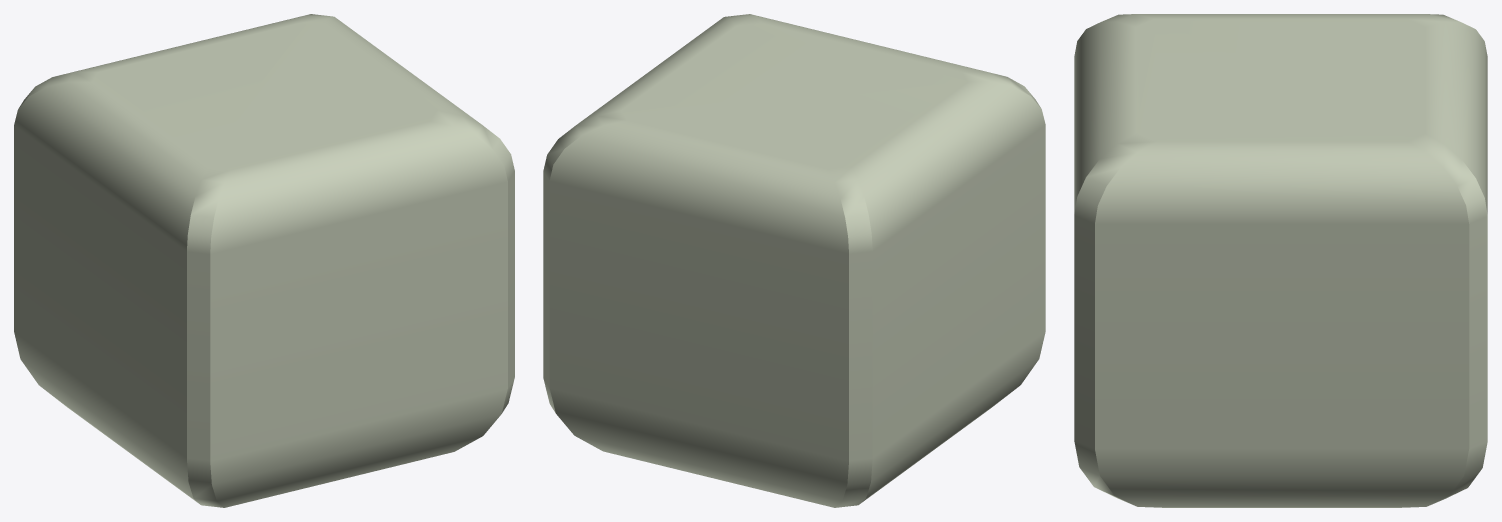
3 views of the same model, side by side, from view 1: azimuth 30°, elevation 25°; view 2: azimuth 150°, elevation 25°; view 3: azimuth 270°, elevation 25° (orthographic). The views are drawn at different scales.
Parts seen in each view (by area): view 1: pCube1; view 2: pCube1; view 3: pCube1.
Boxes of the visible parts, bbox=[...] form: pCube1: bbox=[14, 14, 514, 507]; pCube1: bbox=[543, 14, 1045, 507]; pCube1: bbox=[1074, 14, 1487, 507].
Bounding box in the file's own units: 1 × 1 × 1.
